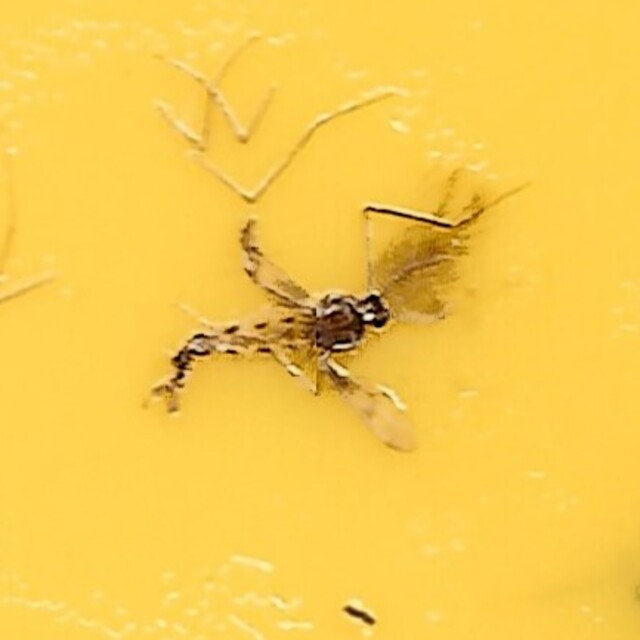Nematocera: (148, 164, 492, 476)
